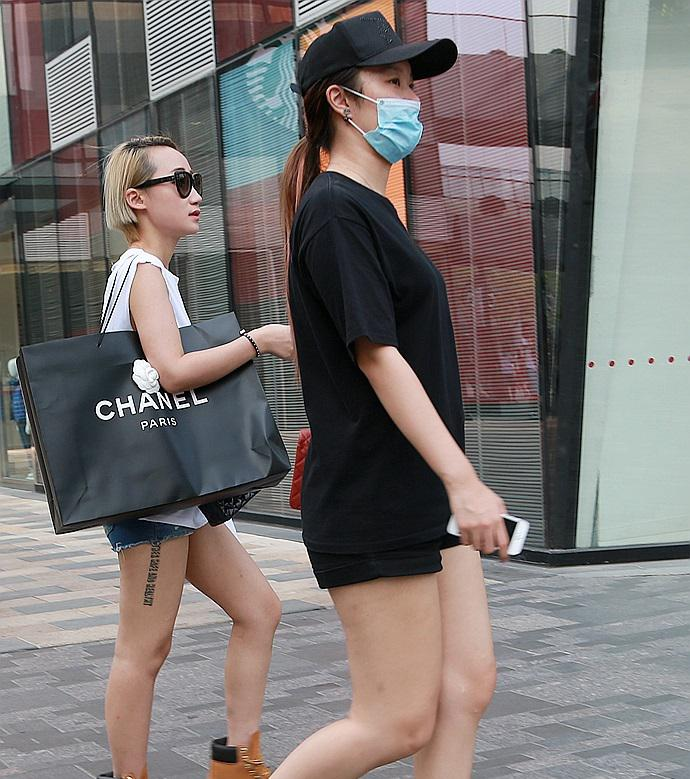NONE: (135, 159, 205, 238)
WRONG: (340, 71, 430, 161)
